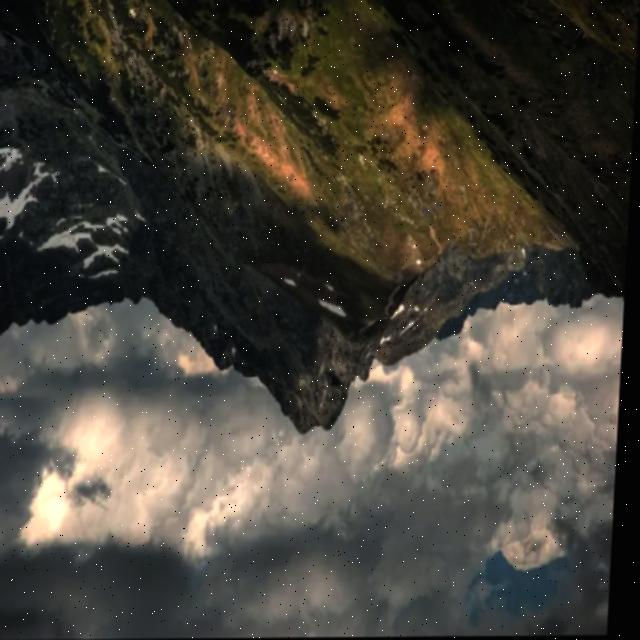Swinica: (229, 350, 392, 505)
